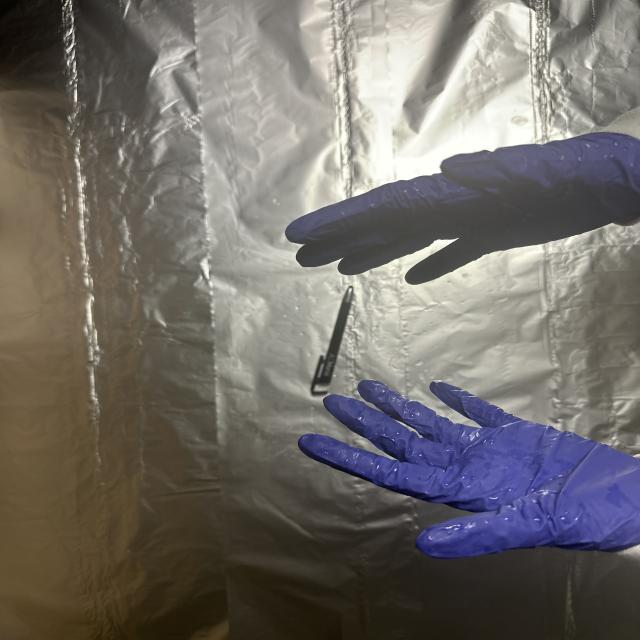gloves_contaminated: (298, 381, 640, 558), (285, 129, 640, 285)
